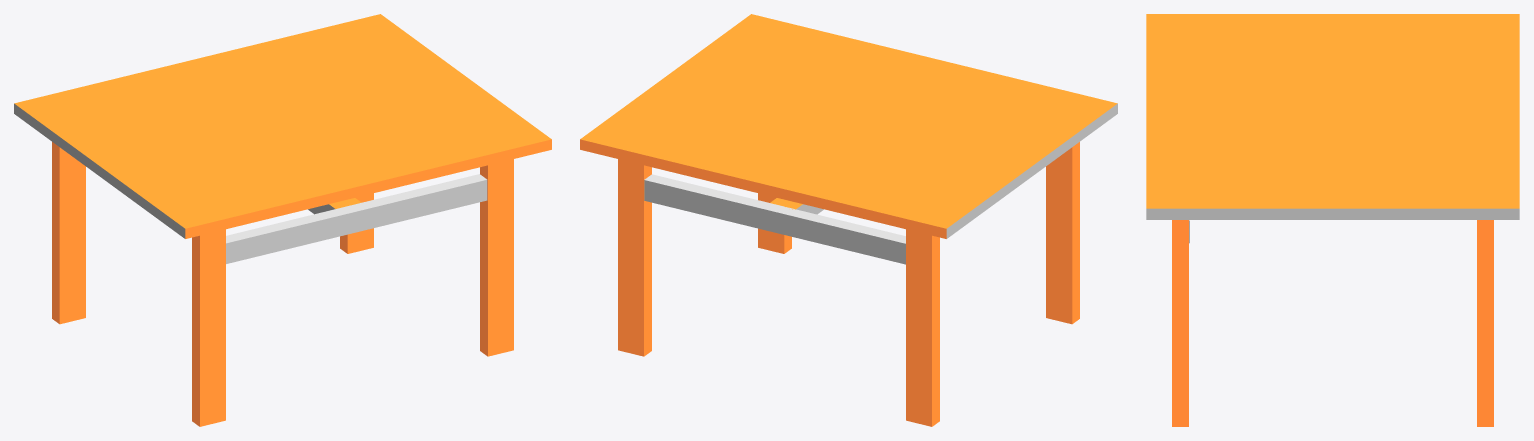
The picture shows the model from 3 angles, left to right: view 1: azimuth 30°, elevation 25°; view 2: azimuth 150°, elevation 25°; view 3: azimuth 270°, elevation 25°; orthographic projection. The views are drawn at different scales.
Parts seen in each view (by area): view 1: Platte, Stütze_1, Bein, Bein_1, Bein_2, Bein_3; view 2: Platte, Stütze, Bein_2, Bein_3, Bein, Bein_1; view 3: Platte, Bein_1, Bein_3.
Boxes of the visible parts, x1,y1,x2,y2 form: Platte: [14, 14, 551, 238]; Stütze_1: [226, 174, 487, 263]; Bein: [192, 229, 225, 426]; Bein_1: [480, 159, 513, 356]; Bein_2: [52, 142, 85, 324]; Bein_3: [340, 193, 373, 253]; Platte: [580, 14, 1117, 238]; Stütze: [644, 174, 905, 264]; Bein_2: [906, 229, 939, 426]; Bein_3: [618, 159, 651, 356]; Bein: [1046, 142, 1079, 324]; Bein_1: [758, 193, 791, 253]; Platte: [1146, 14, 1519, 219]; Bein_1: [1172, 220, 1188, 426]; Bein_3: [1477, 220, 1493, 426].
Size of the model in its own units: 0.7785 by 0.4325 by 0.63.
